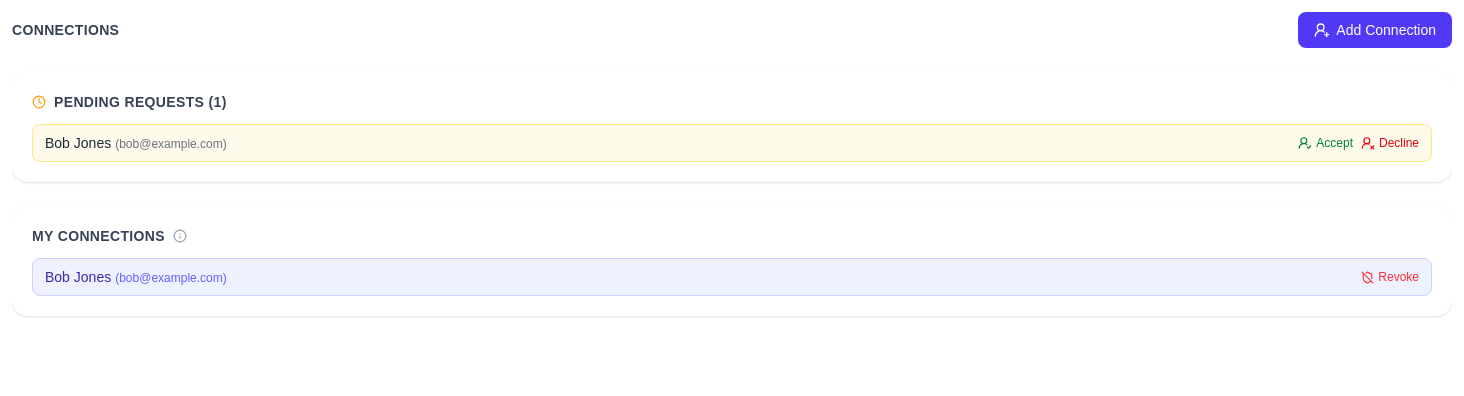
Test: ConnectionsPanel — interactions › shows an error message when accept fails
This screenshot has width=1464, height=396.
Click the button with aria-label "accept request from bob" at [1326, 143], box [1298, 135, 1353, 151]
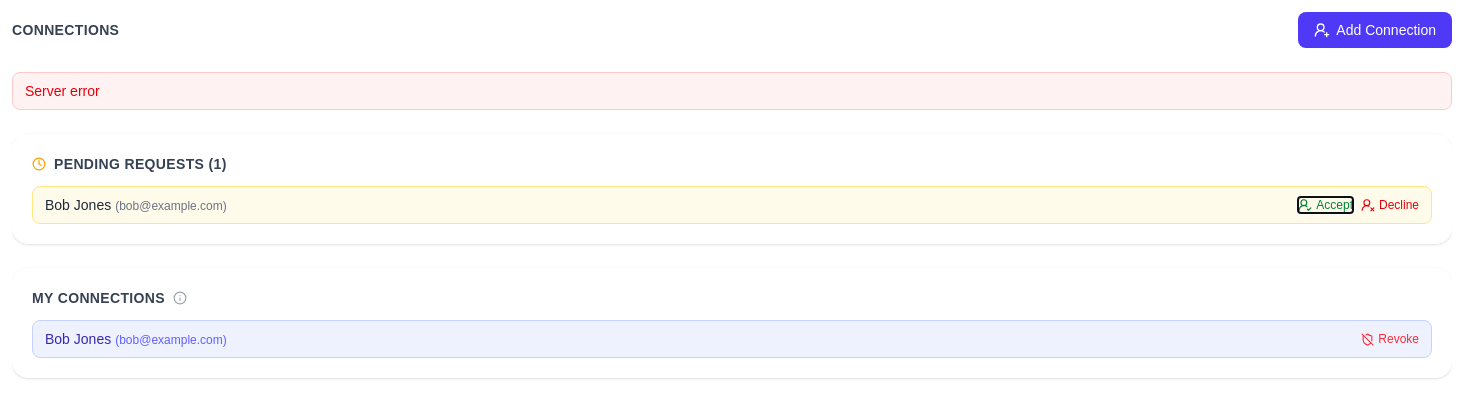
Expected: the text "Server error" is shown, [12, 72, 1452, 110]
